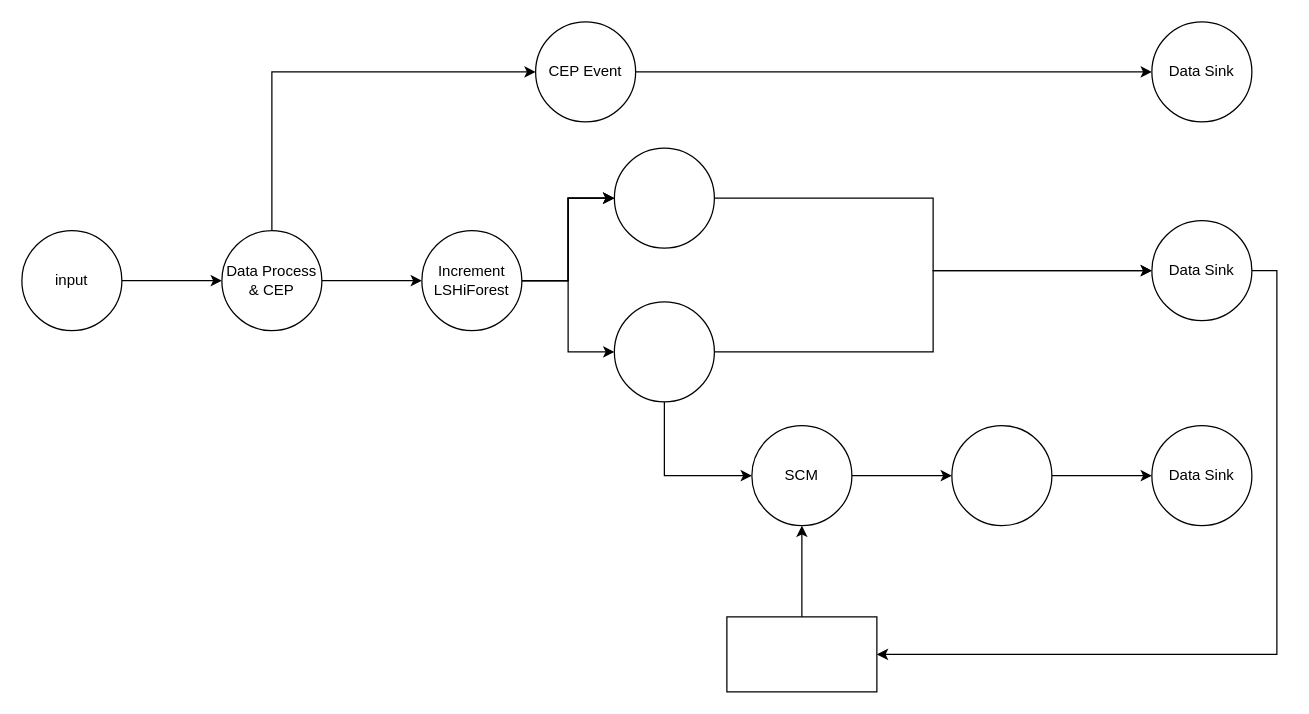
Image size: 1309x714. Some labels were removed from this diagram. The box of each missing label's shape, as (x1, y1, x2, y2) in pixels:
Causal Model Fit: (726, 616, 877, 692)
Normal Data: (613, 147, 714, 248)
Outlier Data: (613, 301, 714, 402)
RCA: (951, 424, 1052, 526)
